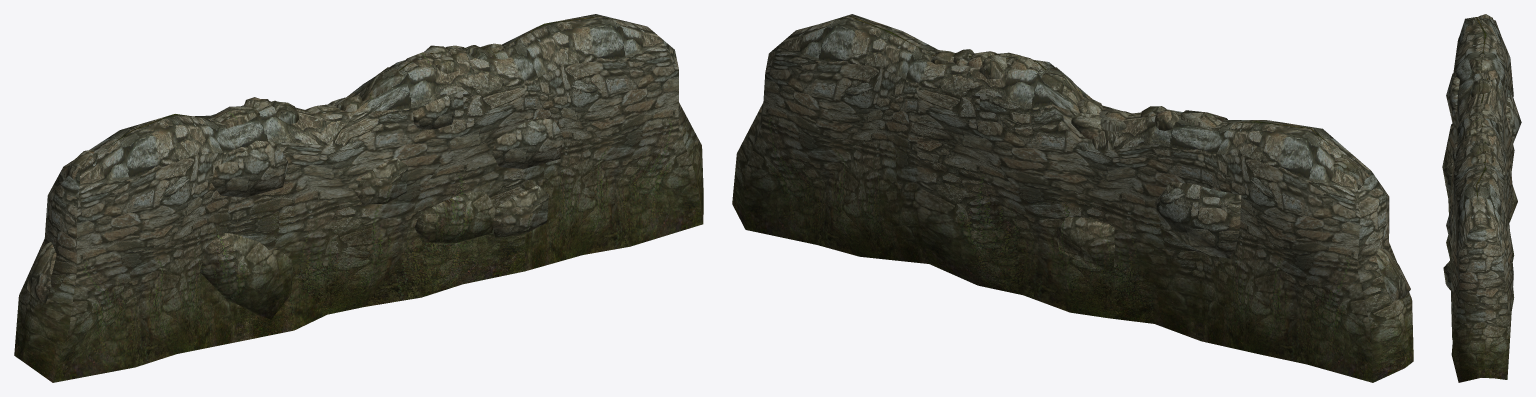
The model's file is StoneWall01.FBX.
3 views of the same model, side by side, from view 1: azimuth 30°, elevation 25°; view 2: azimuth 150°, elevation 25°; view 3: azimuth 270°, elevation 25° (orthographic). The views are drawn at different scales.
Visible parts, largest first — view 1: ASE_CM_Vill_Stonewall04_SM; view 2: ASE_CM_Vill_Stonewall04_SM; view 3: ASE_CM_Vill_Stonewall04_SM.
Part boxes in pixels (x1,y1,x2,y2): ASE_CM_Vill_Stonewall04_SM: [14, 14, 703, 382]; ASE_CM_Vill_Stonewall04_SM: [732, 14, 1413, 382]; ASE_CM_Vill_Stonewall04_SM: [1442, 14, 1521, 382].
Size of the model in its own units: 291 by 92.49 by 39.67.
